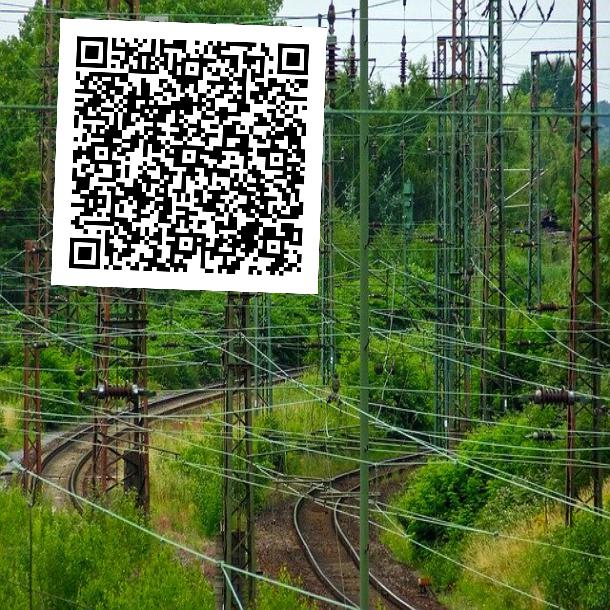qr_code: (51, 18, 326, 294)
